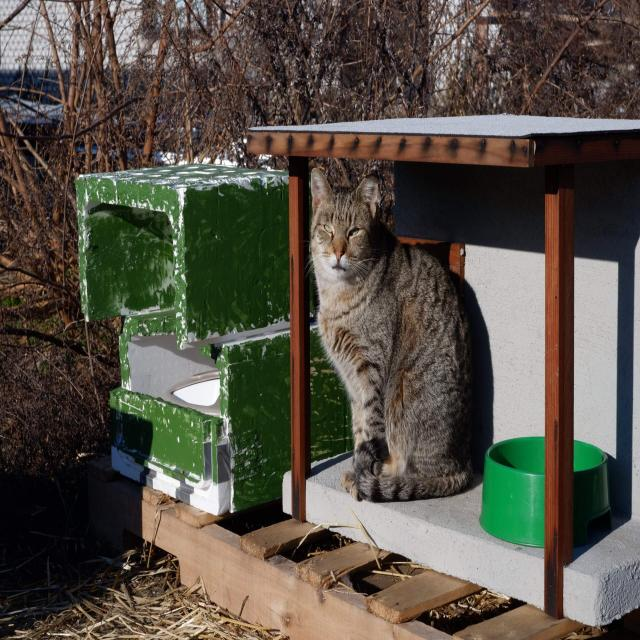cat: (310, 169, 472, 502)
